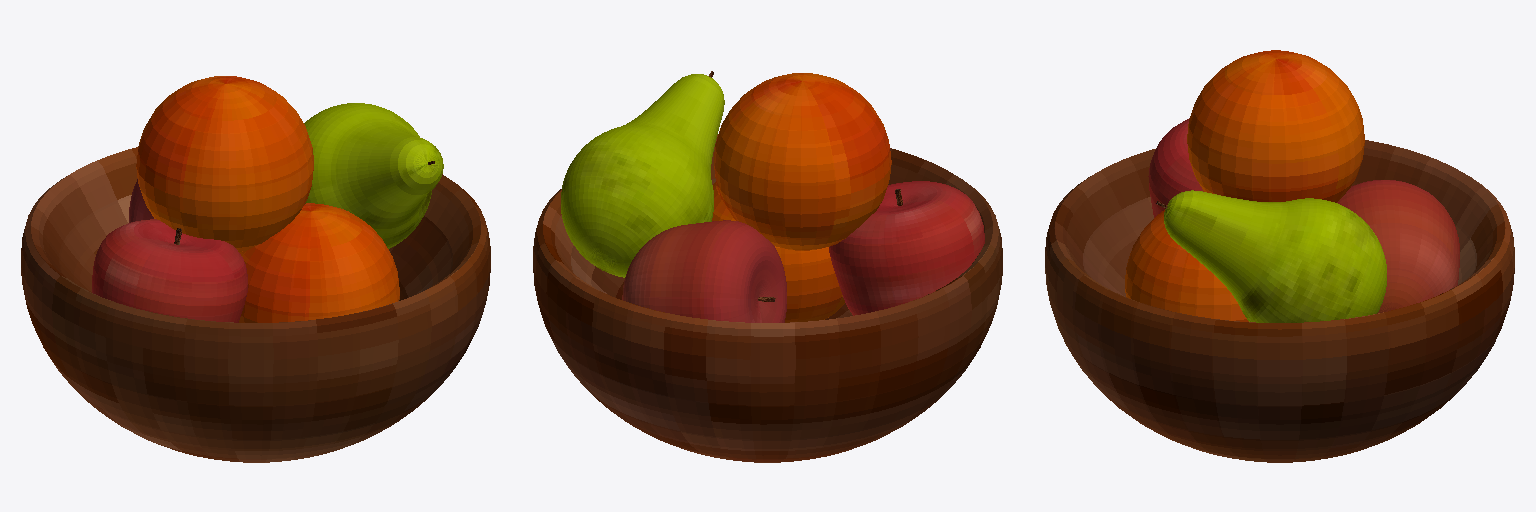
The picture shows the model from 3 angles: view 1: azimuth 30°, elevation 25°; view 2: azimuth 150°, elevation 25°; view 3: azimuth 270°, elevation 25°; orthographic projection.
Parts seen in each view (by area): view 1: Sphere.002, Sphere.005, Sphere.001, Sphere.003, Sphere, Sphere.004; view 2: Sphere.002, Sphere.005, Sphere.003, Sphere, Sphere.004, Sphere.001; view 3: Sphere.002, Sphere.005, Sphere.003, Sphere.004, Sphere.001, Sphere.
Boxes of the visible parts, x1=… form: Sphere.002: x1=21, y1=147, x2=490, y2=462; Sphere.005: x1=136, y1=76, x2=313, y2=251; Sphere.001: x1=239, y1=203, x2=399, y2=322; Sphere.003: x1=304, y1=103, x2=443, y2=248; Sphere: x1=92, y1=219, x2=247, y2=322; Sphere.004: x1=129, y1=179, x2=153, y2=222; Sphere.002: x1=533, y1=135, x2=1002, y2=462; Sphere.005: x1=714, y1=73, x2=891, y2=250; Sphere.003: x1=561, y1=74, x2=724, y2=277; Sphere: x1=829, y1=181, x2=984, y2=315; Sphere.004: x1=622, y1=220, x2=786, y2=322; Sphere.001: x1=712, y1=182, x2=844, y2=322; Sphere.002: x1=1045, y1=140, x2=1514, y2=462; Sphere.005: x1=1187, y1=50, x2=1364, y2=202; Sphere.003: x1=1164, y1=190, x2=1386, y2=322; Sphere.004: x1=1337, y1=180, x2=1459, y2=313; Sphere.001: x1=1125, y1=210, x2=1248, y2=321; Sphere: x1=1148, y1=118, x2=1203, y2=217.
Bounding box in the file's own units: 2.09 × 1.78 × 2.09.
4 materials, 4 textured.